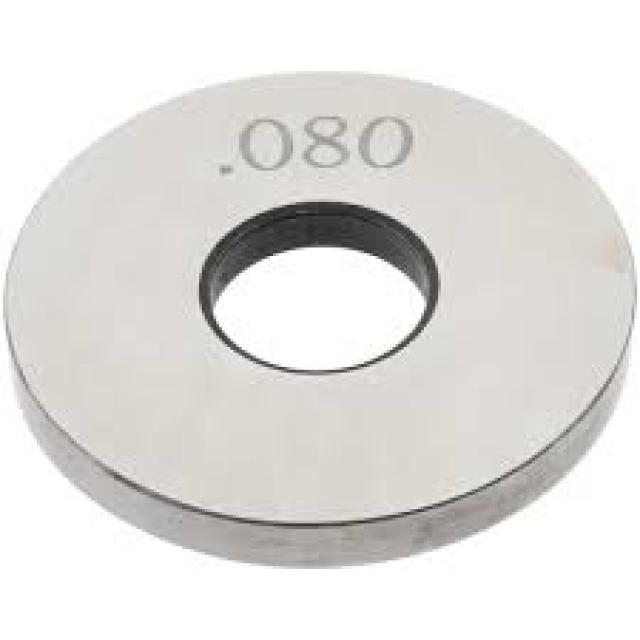Turning: (4, 1, 640, 640)
